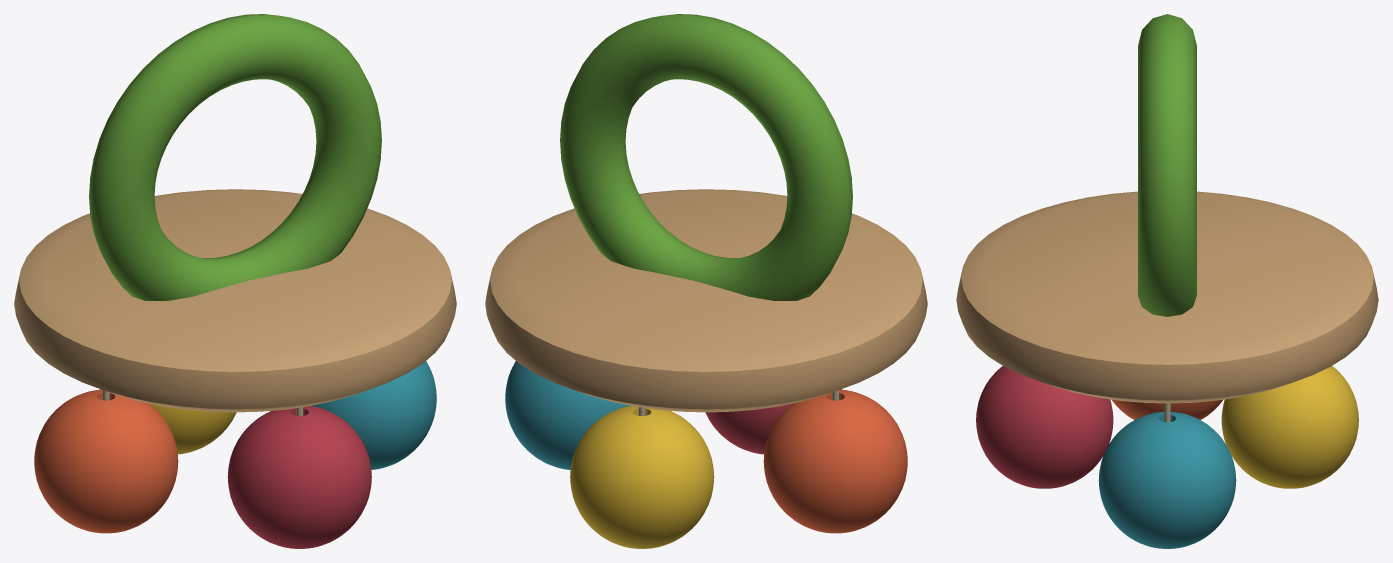
3 renders of one model, left to right at view 1: azimuth 30°, elevation 25°; view 2: azimuth 150°, elevation 25°; view 3: azimuth 270°, elevation 25°, orthographic. The views are drawn at different scales.
Visible parts, largest first — view 1: Rounded wooden base, Round open grip, Bead3 with real axial bore, Bead0 with real axial bore, Bead1 with real axial bore, Bead2 with real axial bore; view 2: Rounded wooden base, Round open grip, Bead2 with real axial bore, Bead0 with real axial bore, Bead1 with real axial bore, Bead3 with real axial bore; view 3: Rounded wooden base, Round open grip, Bead1 with real axial bore, Bead2 with real axial bore, Bead3 with real axial bore, Bead0 with real axial bore.
Part boxes in pixels (left/top/right/bottom): Rounded wooden base: left=14, top=189, right=456, bottom=412; Round open grip: left=89, top=14, right=381, bottom=300; Bead3 with real axial bore: left=227, top=406, right=371, bottom=548; Bead0 with real axial bore: left=34, top=389, right=178, bottom=533; Bead1 with real axial bore: left=311, top=361, right=436, bottom=469; Bead2 with real axial bore: left=99, top=389, right=236, bottom=454; Rounded wooden base: left=485, top=189, right=927, bottom=412; Round open grip: left=560, top=14, right=852, bottom=300; Bead2 with real axial bore: left=570, top=406, right=714, bottom=548; Bead0 with real axial bore: left=763, top=389, right=907, bottom=533; Bead1 with real axial bore: left=505, top=361, right=630, bottom=469; Bead3 with real axial bore: left=705, top=389, right=842, bottom=454; Rounded wooden base: left=956, top=191, right=1378, bottom=403; Round open grip: left=1138, top=14, right=1196, bottom=316; Bead1 with real axial bore: left=1098, top=411, right=1236, bottom=548; Bead2 with real axial bore: left=1221, top=366, right=1358, bottom=488; Bead3 with real axial bore: left=976, top=366, right=1113, bottom=488; Bead0 with real axial bore: left=1112, top=399, right=1222, bottom=419.
Size of the model in its own units: 0.086 by 0.1019 by 0.086.
